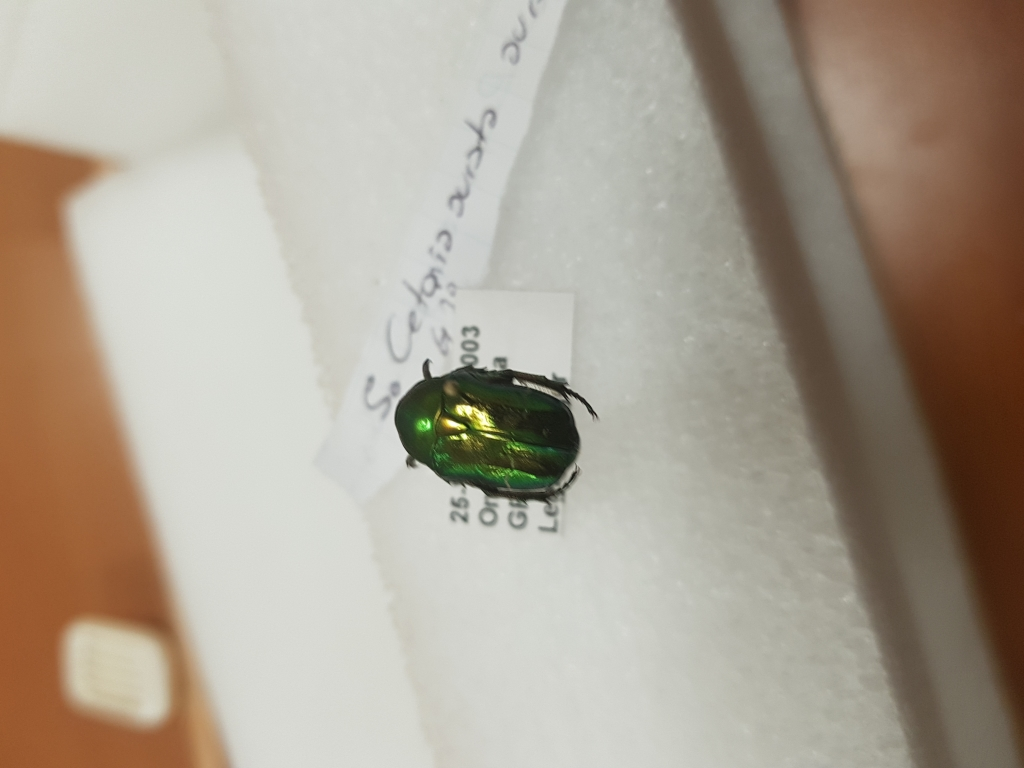Cetonia_aurata: (380, 347, 602, 513)
